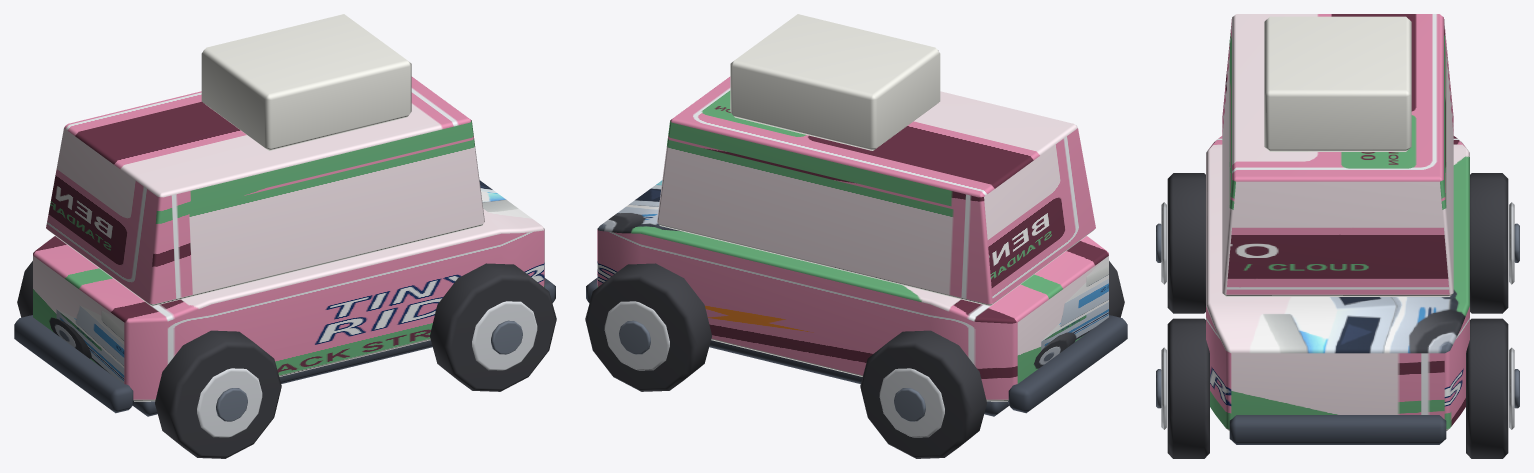
3 views of the same model, side by side, from view 1: azimuth 30°, elevation 25°; view 2: azimuth 150°, elevation 25°; view 3: azimuth 270°, elevation 25° (orthographic). The views are drawn at different scales.
Visible parts, largest first — view 1: SS-04_cabin, SS-04_connected_shell, lunch box, Tire, Tire.002, front bumper, Rim, Rim.002, underbody, Hub.002, Hub, Tire.001; view 2: SS-04_cabin, SS-04_connected_shell, lunch box, Tire.001, Tire.003, front bumper, Rim.001, Rim.003, underbody, Hub.003, Hub.001, Tire; view 3: SS-04_cabin, SS-04_connected_shell, lunch box, rear bumper, Tire.002, Tire.003, Tire, Tire.001, Rim, Rim.001, Rim.002, Rim.003.
Boxes of the visible parts, bbox=[...] form: SS-04_cabin: bbox=[46, 76, 484, 306]; SS-04_connected_shell: bbox=[33, 180, 544, 401]; lunch box: bbox=[201, 14, 411, 150]; Tire: bbox=[155, 330, 281, 458]; Tire.002: bbox=[430, 263, 556, 391]; front bumper: bbox=[14, 315, 133, 413]; Rim: bbox=[197, 368, 262, 437]; Rim.002: bbox=[472, 301, 537, 370]; underbody: bbox=[132, 340, 432, 416]; Hub.002: bbox=[491, 320, 522, 354]; Hub: bbox=[216, 388, 247, 421]; Tire.001: bbox=[17, 261, 32, 317]; SS-04_cabin: bbox=[657, 76, 1095, 306]; SS-04_connected_shell: bbox=[597, 180, 1108, 401]; lunch box: bbox=[730, 14, 940, 150]; Tire.001: bbox=[860, 330, 986, 458]; Tire.003: bbox=[585, 263, 711, 391]; front bumper: bbox=[1008, 315, 1127, 413]; Rim.001: bbox=[879, 368, 944, 437]; Rim.003: bbox=[604, 301, 669, 370]; underbody: bbox=[709, 340, 1009, 416]; Hub.003: bbox=[619, 320, 650, 354]; Hub.001: bbox=[894, 388, 925, 421]; Tire: bbox=[1109, 261, 1124, 317]; SS-04_cabin: bbox=[1222, 14, 1453, 296]; SS-04_connected_shell: bbox=[1206, 136, 1469, 430]; lunch box: bbox=[1264, 16, 1411, 151]; rear bumper: bbox=[1229, 415, 1446, 444]; Tire.002: bbox=[1167, 318, 1209, 458]; Tire.003: bbox=[1466, 318, 1508, 458]; Tire: bbox=[1167, 173, 1205, 313]; Tire.001: bbox=[1470, 173, 1508, 313]; Rim: bbox=[1161, 202, 1166, 284]; Rim.001: bbox=[1509, 202, 1514, 284]; Rim.002: bbox=[1161, 347, 1166, 429]; Rim.003: bbox=[1509, 347, 1514, 429].
Size of the model in its own units: 341 by 227 by 222.
